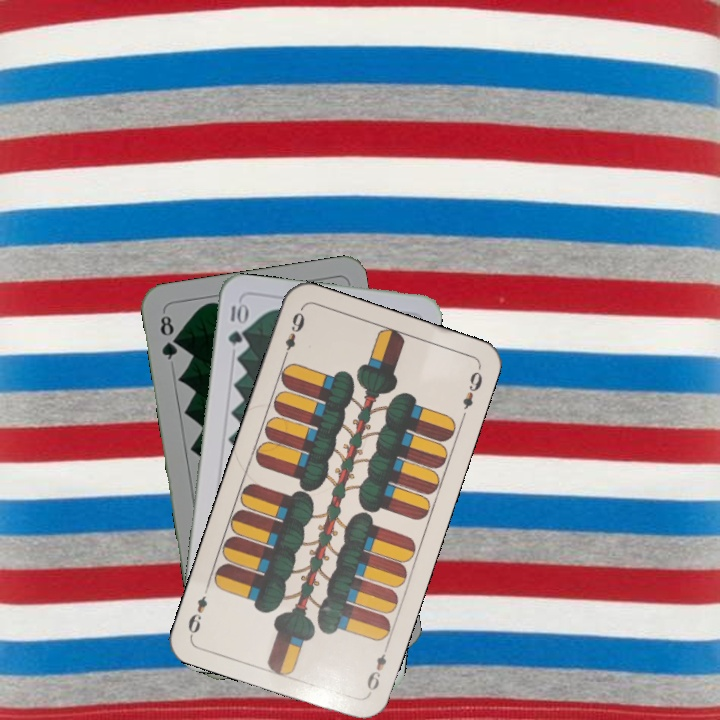E9: (279, 305, 307, 363), (362, 640, 390, 698)
G10: (224, 298, 248, 347)
G8: (156, 311, 181, 363)
